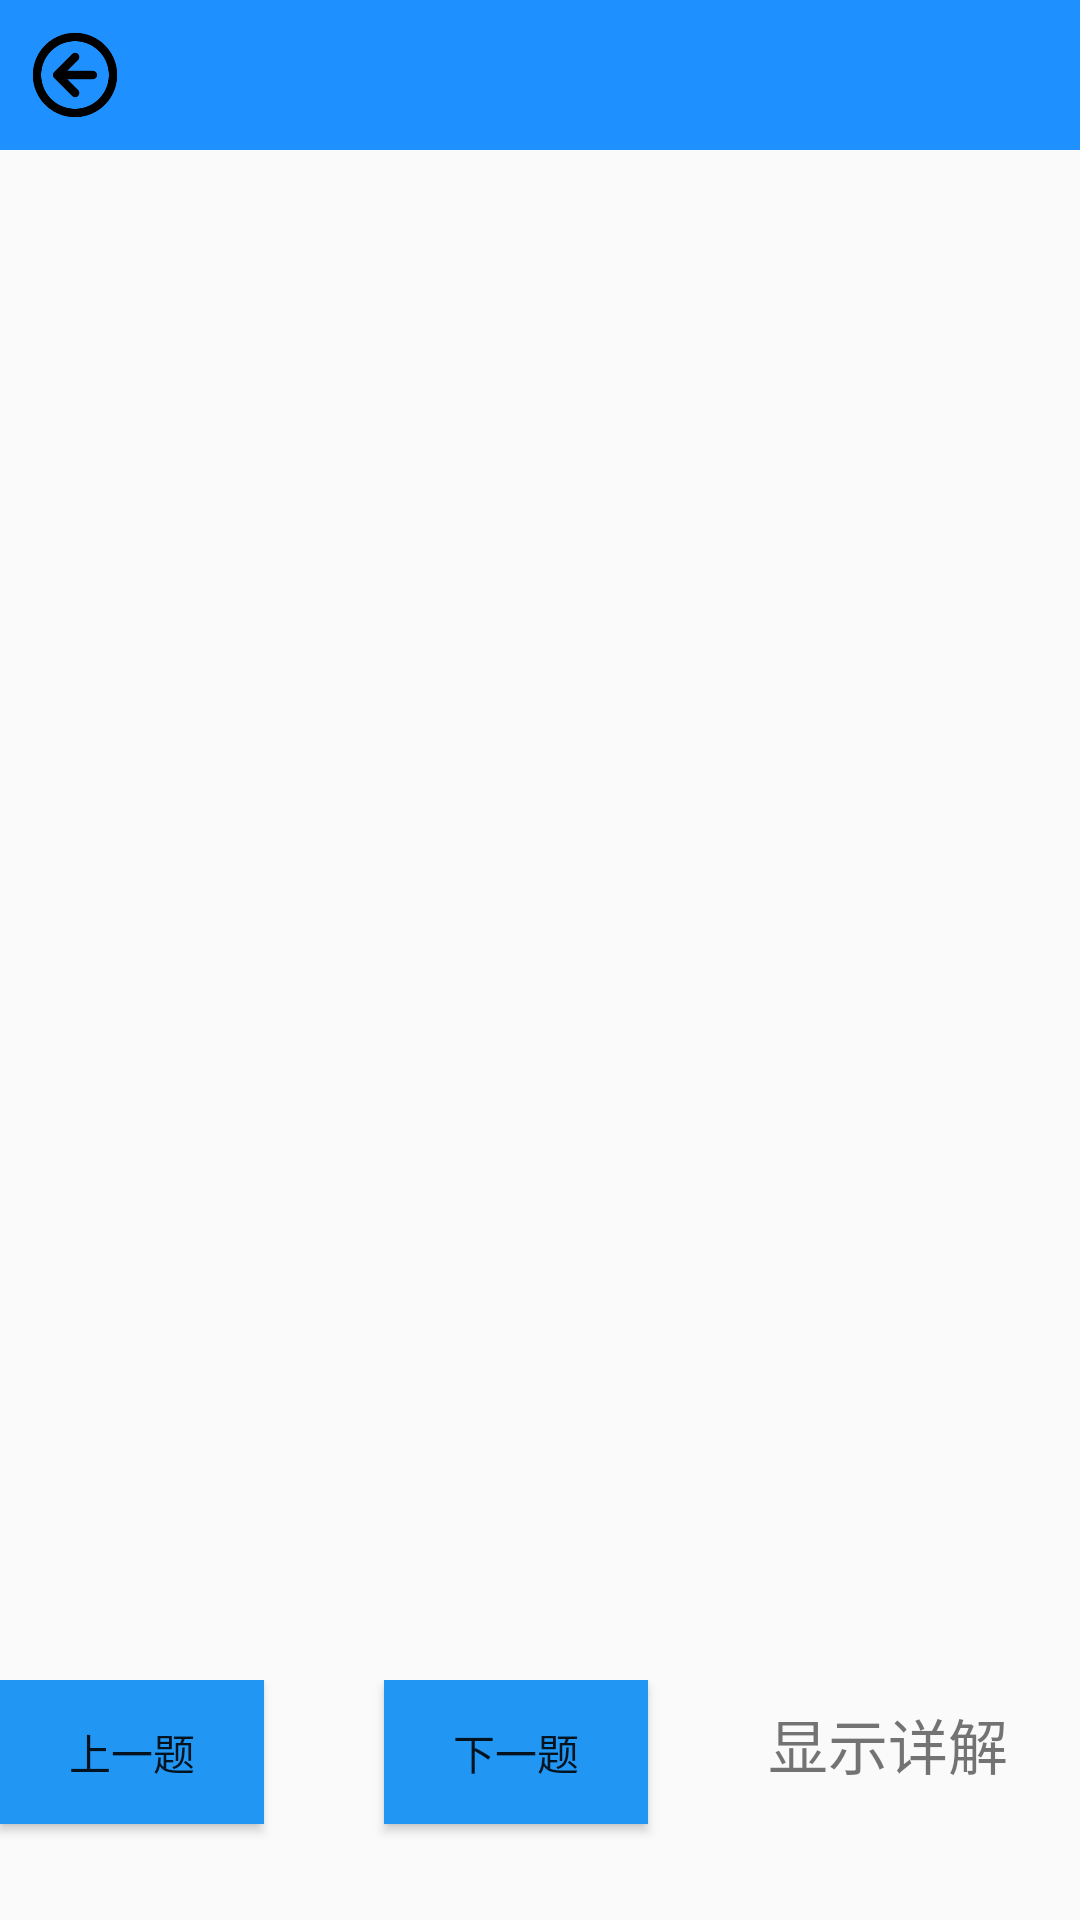

Screen size 1080px×1920px. Icon name, then its box in pixels as (x1, y1, x2, y2):
fanhui: (33, 33, 117, 117)
